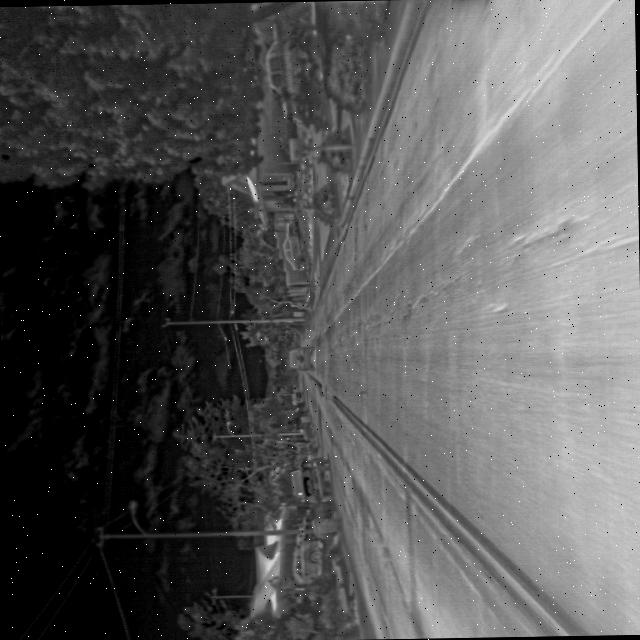Vehicle: (260, 19, 312, 122), (288, 454, 334, 506), (290, 536, 325, 592), (279, 218, 309, 272), (284, 343, 317, 374)
